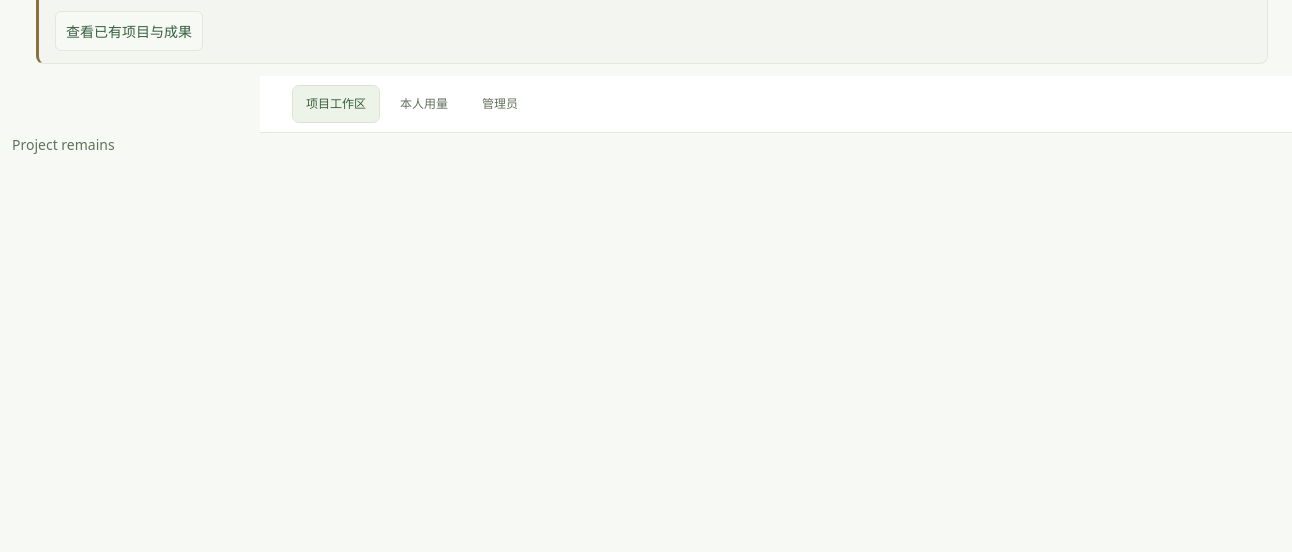
Test: keeps an in-flight account operation mounted while switching views
Click the button "管理员" at (500, 104), box [468, 85, 532, 123]
(page scrolled)
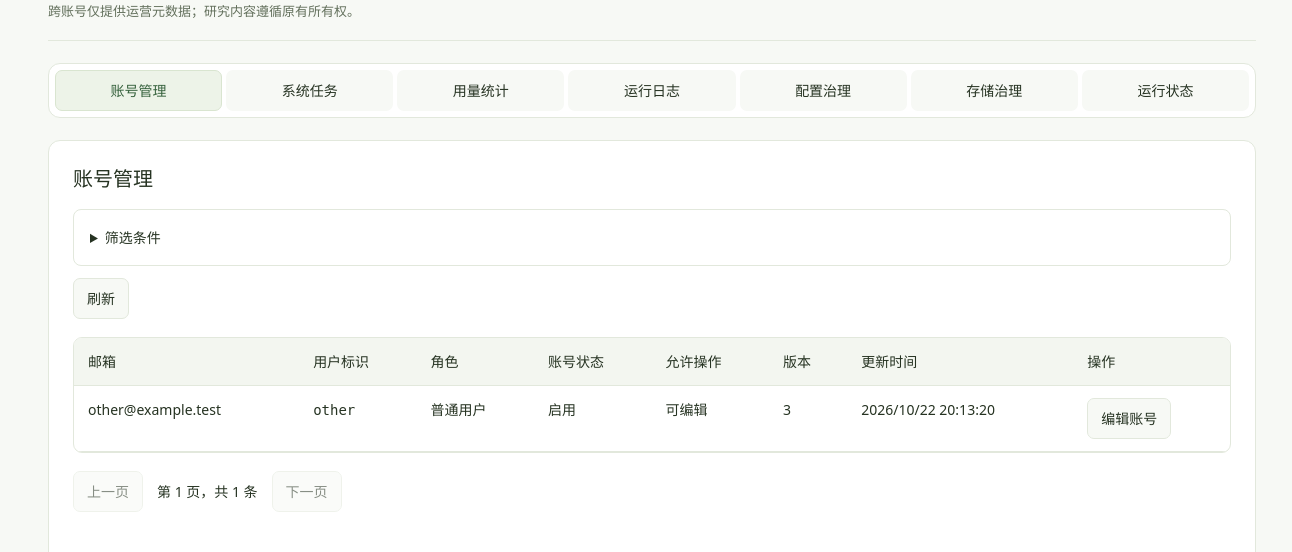
Expected: the text "other@example.test" is shown, [74, 385, 299, 452]
Click the button "编辑账号" at (1129, 418), box [1087, 398, 1171, 439]
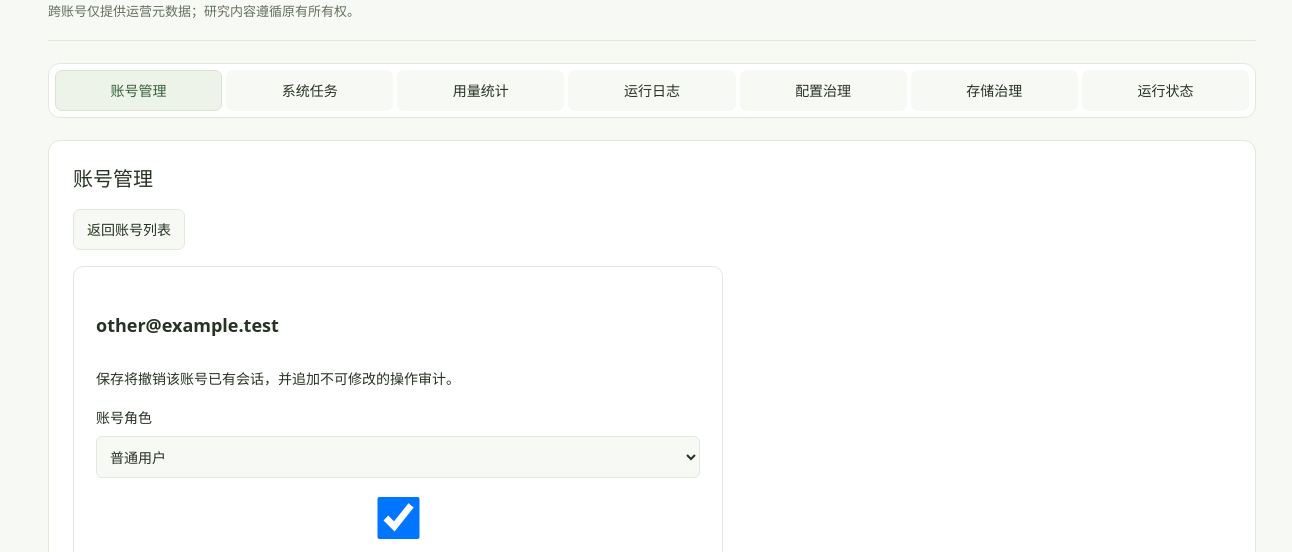
Select "管理员" in the dropdown labelled "账号角色" at (398, 457), box [96, 436, 700, 478]
(page scrolled)
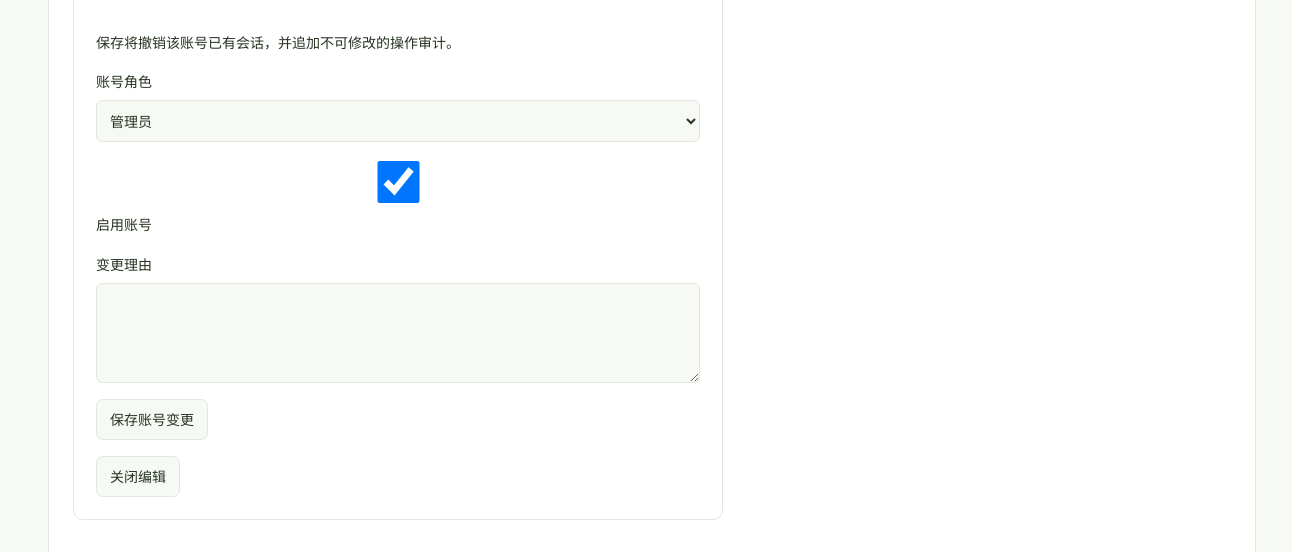
Type "Approved role adjustment" into the text box labelled "变更理由" at (398, 333), box [96, 283, 700, 383]
Click the button "保存账号变更" at (152, 419), box [96, 399, 208, 440]
(page scrolled)
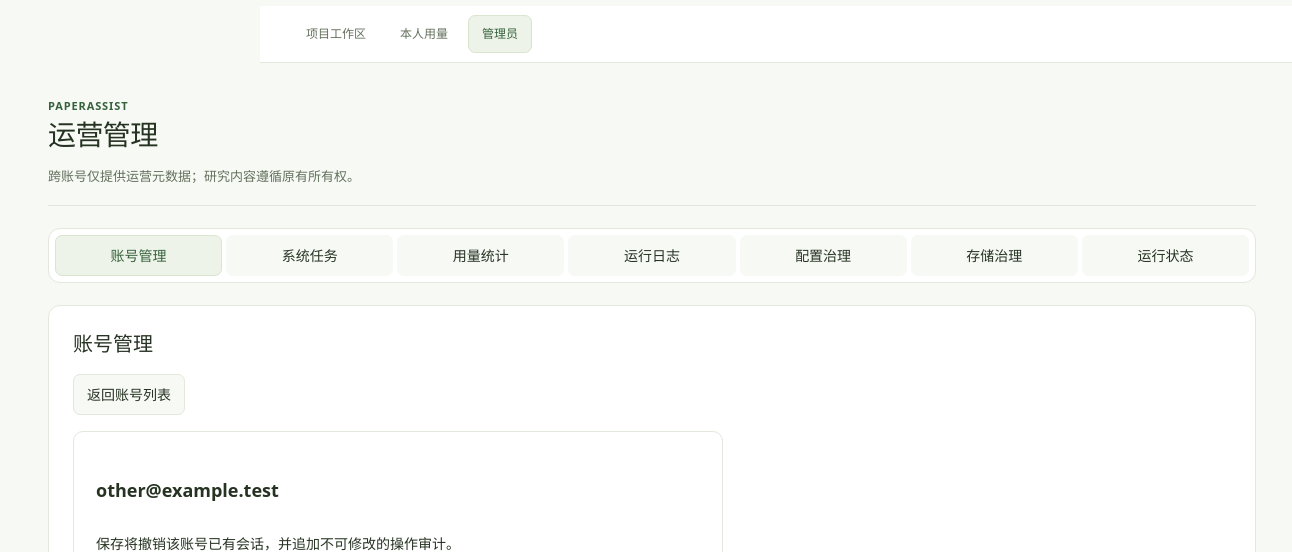
Click the button "运行日志" at (652, 255), box [568, 234, 736, 276]
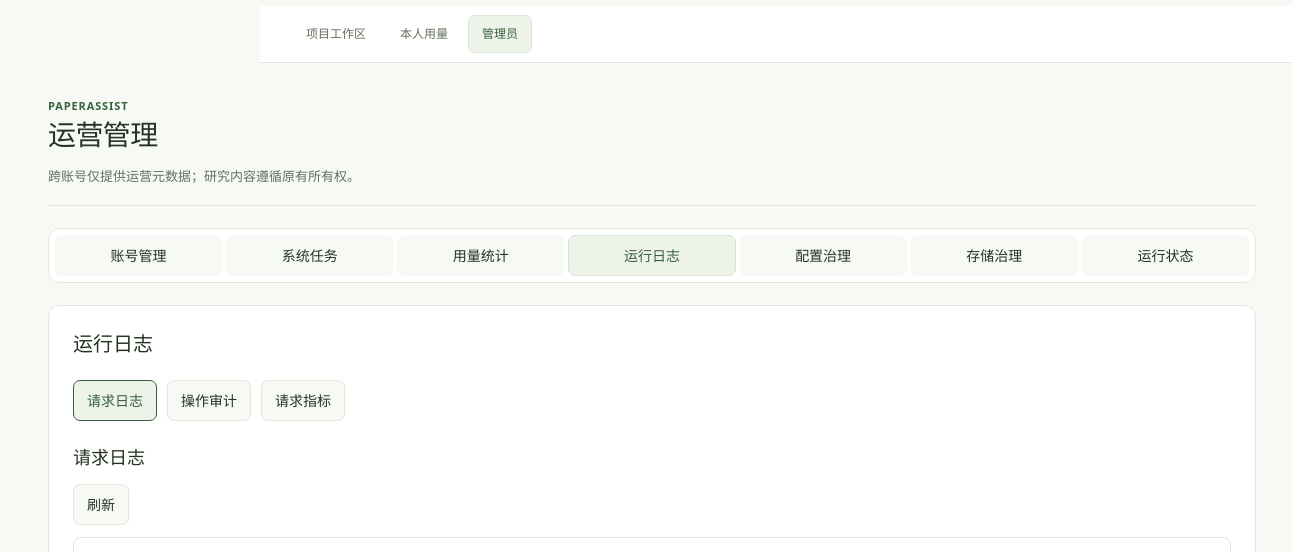
Expected: the button "运行日志" is pressed, [568, 234, 736, 276]
Click the button "账号管理" at (139, 255), box [55, 234, 222, 276]
(page scrolled)
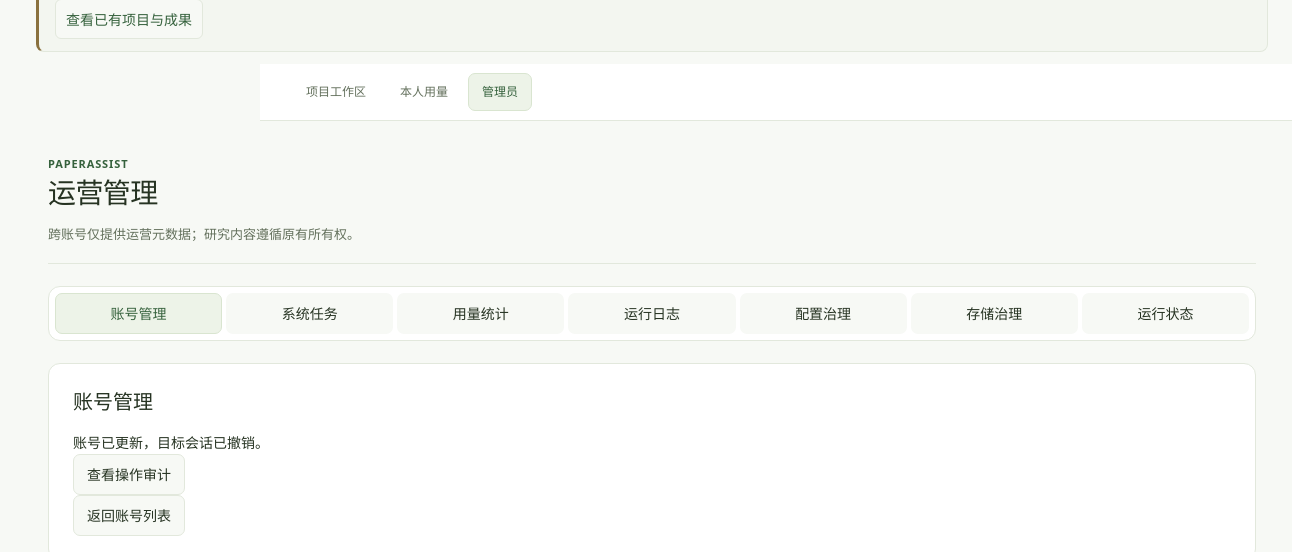
Expected: the text "账号已更新，目标会话已撤销。" is shown, [73, 433, 269, 452]
